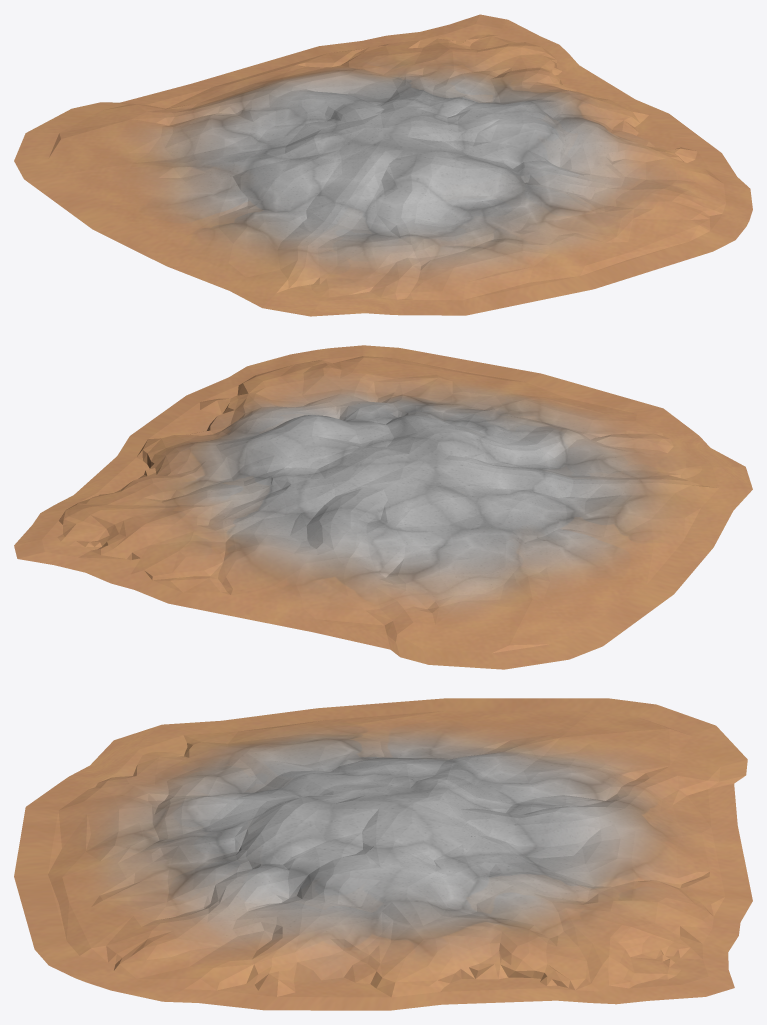
File: ground-gravel.glb
3 renders of one model, top to bottom at view 1: azimuth 30°, elevation 25°; view 2: azimuth 150°, elevation 25°; view 3: azimuth 270°, elevation 25°, orthographic. The views are drawn at different scales.
Parts seen in each view (by area): view 1: Plane.002; view 2: Plane.002; view 3: Plane.002.
Part boxes in pixels (x1,y1,x2,y2): Plane.002: (14,14,752,316); Plane.002: (14,345,752,669); Plane.002: (14,698,752,1010).
Bounding box in the file's own units: 61.17 × 4.86 × 61.11.
Materials: 1 (1 with a texture image).
